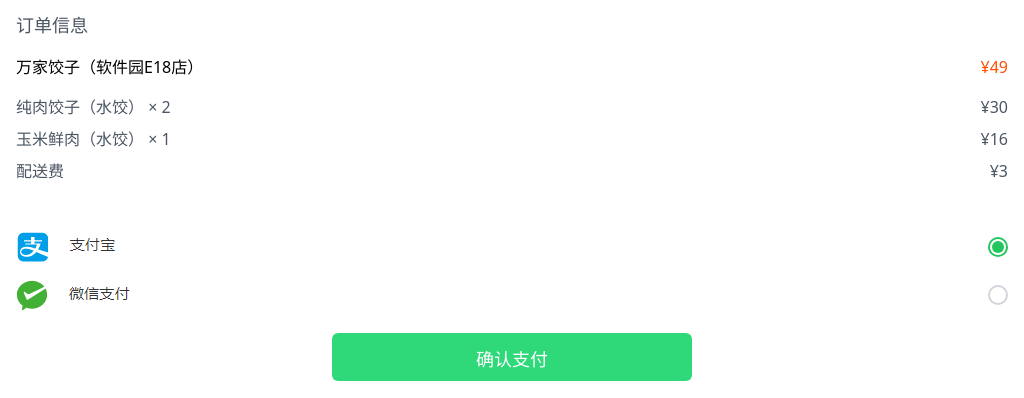
PaymentCom.vue › 显示支付中状态
The image size is (1024, 398).
Click the button "确认支付" at x=512, y=357, box [332,333,692,381]
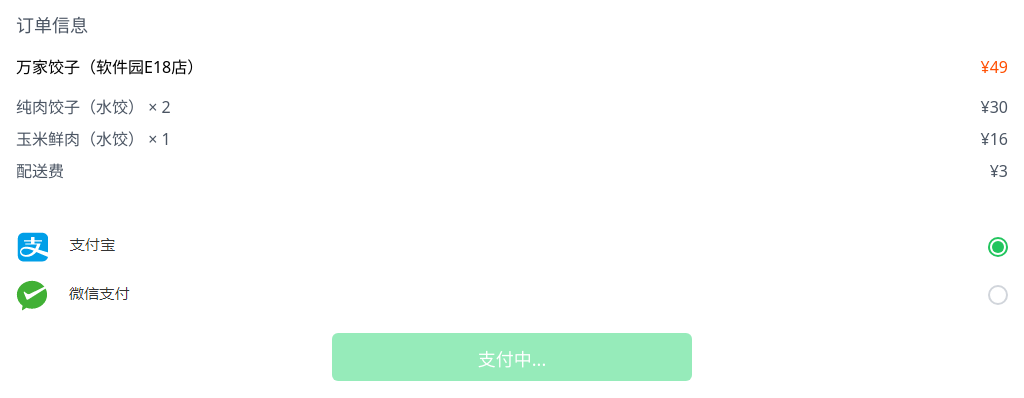
Now the button "支付中..." is shown, box [332,333,692,381]
